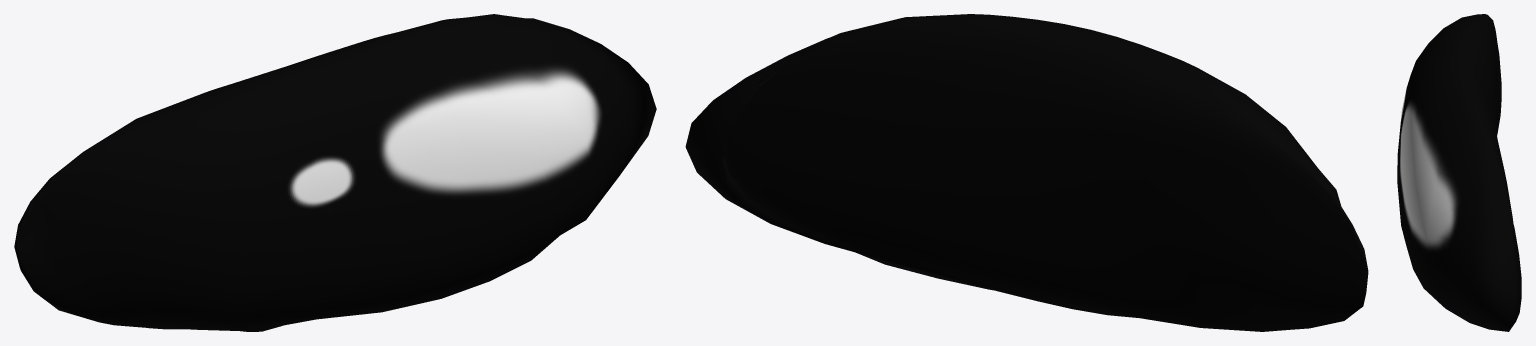
File: Cyclops.glb
3 views of the same model, side by side, from view 1: azimuth 30°, elevation 25°; view 2: azimuth 150°, elevation 25°; view 3: azimuth 270°, elevation 25° (orthographic). The views are drawn at different scales.
Visible parts, largest first — view 1: Sphere.001; view 2: Sphere.001; view 3: Sphere.001.
Part boxes in pixels (x1,y1,x2,y2): Sphere.001: [14, 14, 656, 331]; Sphere.001: [685, 14, 1368, 331]; Sphere.001: [1397, 14, 1521, 331].
Size of the model in its own units: 0.363 by 0.1404 by 0.0805.
1 material, 1 textured.
